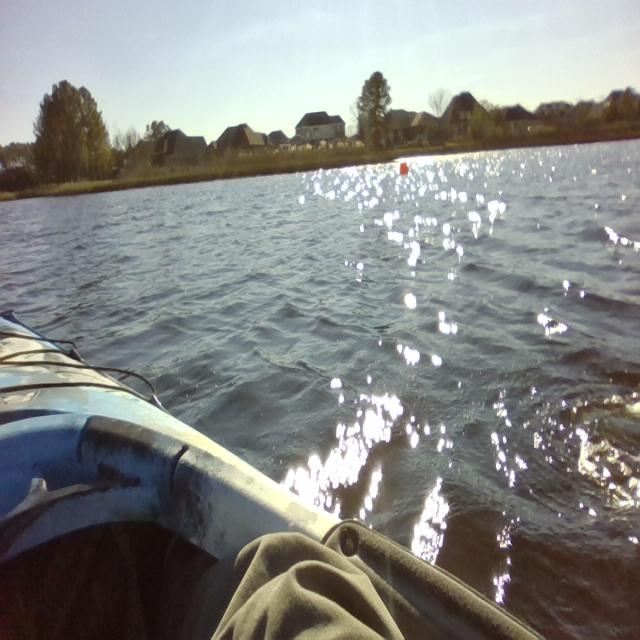Buoy: (390, 155, 416, 185)
